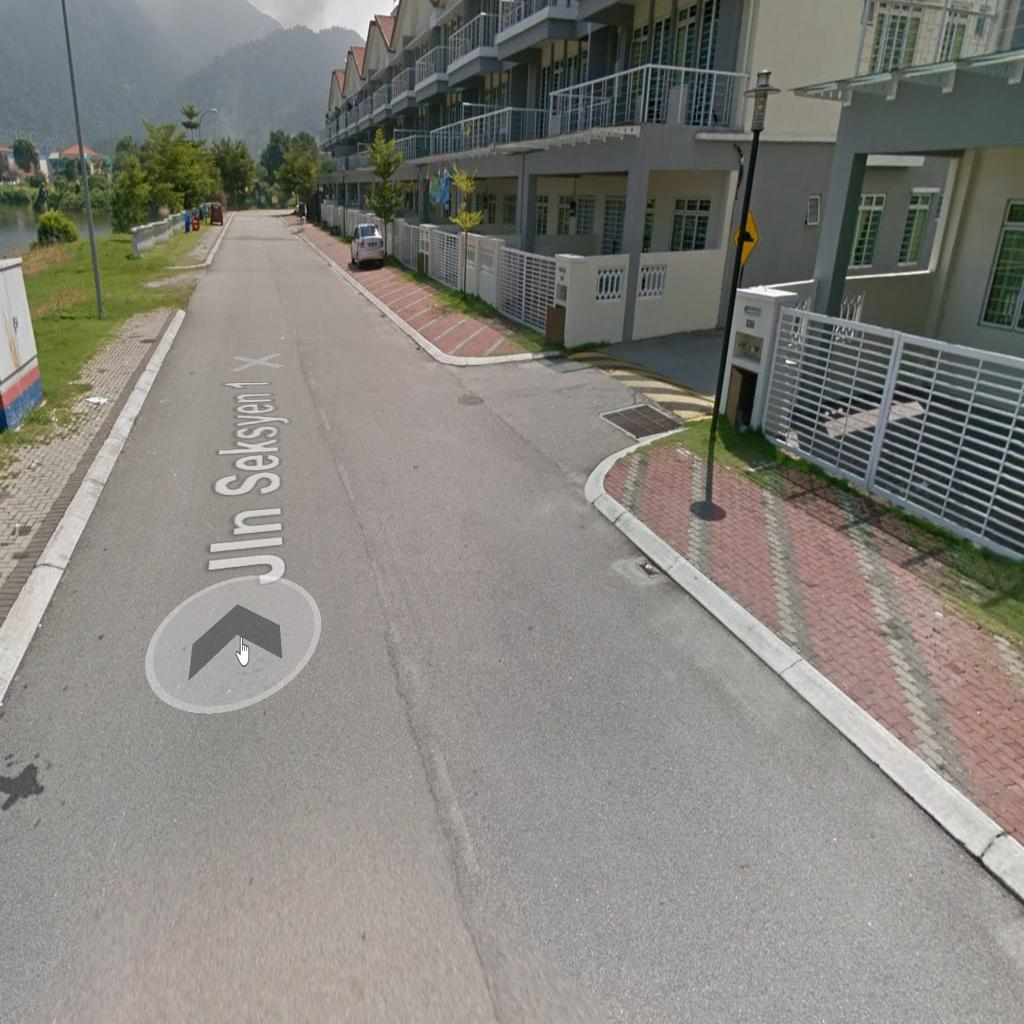Junction: (432, 326, 725, 512)
